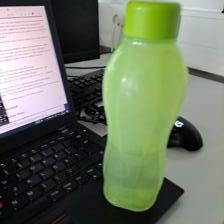bottle: (99, 0, 187, 211)
